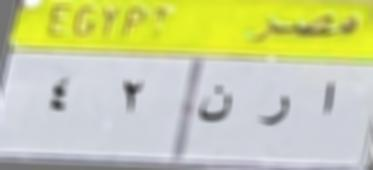2: (110, 73, 154, 118)
4: (37, 76, 80, 122)
alif: (308, 74, 348, 122)
noon: (192, 79, 239, 132)
raa: (255, 88, 294, 131)
